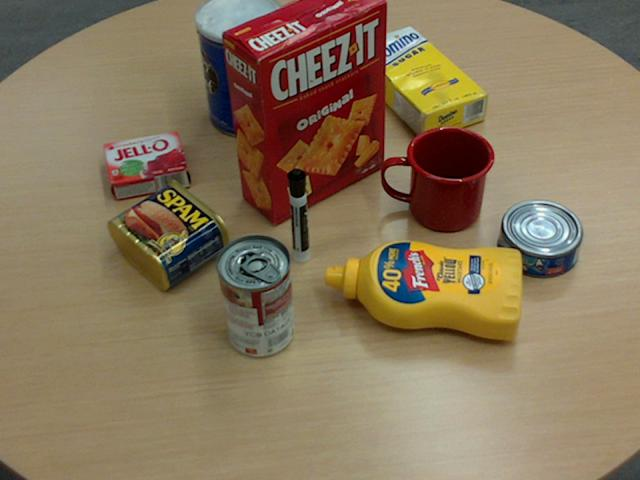cracker_box: (220, 0, 387, 223)
gelatin_box: (102, 130, 188, 198)
large_marker: (286, 168, 310, 263)
master_chef_can: (195, 0, 288, 138)
mug: (382, 125, 494, 231)
mustard_bottle: (323, 240, 521, 338)
potted_meat_can: (107, 178, 231, 289)
sugar_box: (351, 25, 488, 140)
tomato_soup_can: (214, 233, 293, 356)
tuna_fish_can: (497, 199, 582, 276)
